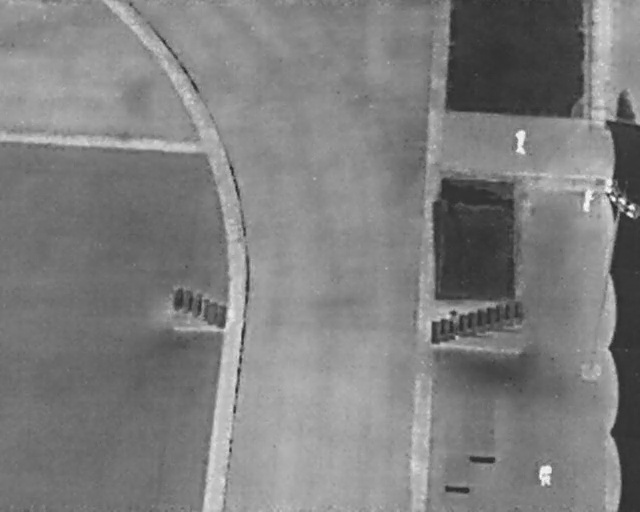Person: (538, 462, 554, 486), (581, 188, 595, 214), (514, 129, 527, 154)
